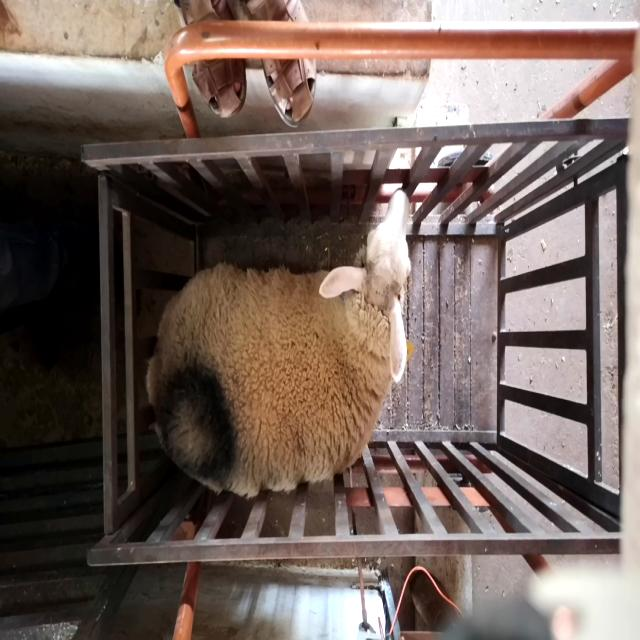sheep: (146, 187, 411, 501)
